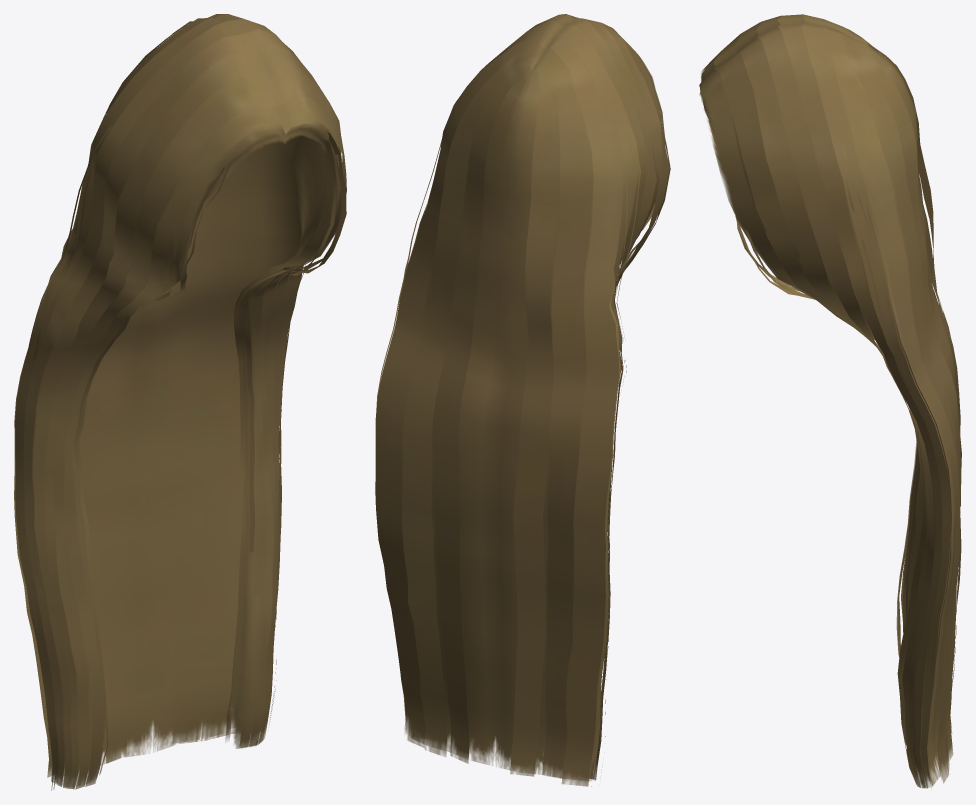
The model's file is hair_bone_blonde.glb.
3 renders of one model, left to right at view 1: azimuth 30°, elevation 25°; view 2: azimuth 150°, elevation 25°; view 3: azimuth 270°, elevation 25°, orthographic. The views are drawn at different scales.
Parts seen in each view (by area): view 1: hair_bone_blonde; view 2: hair_bone_blonde; view 3: hair_bone_blonde.
Part boxes in pixels (box(x1,y1,x2,y2)): hair_bone_blonde: box(14, 14, 346, 790); hair_bone_blonde: box(375, 14, 670, 786); hair_bone_blonde: box(699, 14, 961, 788).
Bounding box in the file's own units: 0.2576 × 0.7242 × 0.2368.
1 material, 1 textured.
